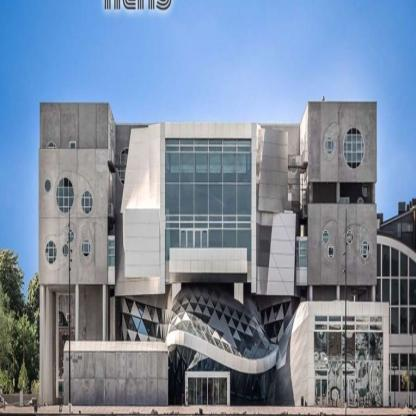Building Outline: (38, 95, 389, 408)
Door: (188, 377, 227, 407), (180, 229, 208, 261), (315, 377, 328, 407), (342, 377, 355, 407), (340, 198, 349, 220), (70, 143, 76, 168)
Facade: (39, 95, 390, 407)
Glass Wall: (165, 139, 251, 262), (168, 344, 276, 407), (314, 316, 383, 407)
Pillar: (40, 286, 47, 405), (371, 286, 376, 407), (75, 285, 79, 406), (103, 285, 106, 406), (309, 286, 312, 407), (337, 287, 340, 408)
Window: (168, 312, 275, 360), (121, 298, 165, 341), (260, 300, 291, 324), (260, 319, 284, 345), (223, 313, 240, 337), (193, 293, 218, 309), (163, 297, 171, 337), (296, 240, 307, 267), (226, 304, 243, 321), (205, 287, 222, 300), (240, 313, 251, 333), (171, 296, 184, 312), (108, 241, 115, 268), (174, 306, 185, 321), (189, 286, 205, 294), (182, 302, 189, 312), (251, 318, 257, 327)
